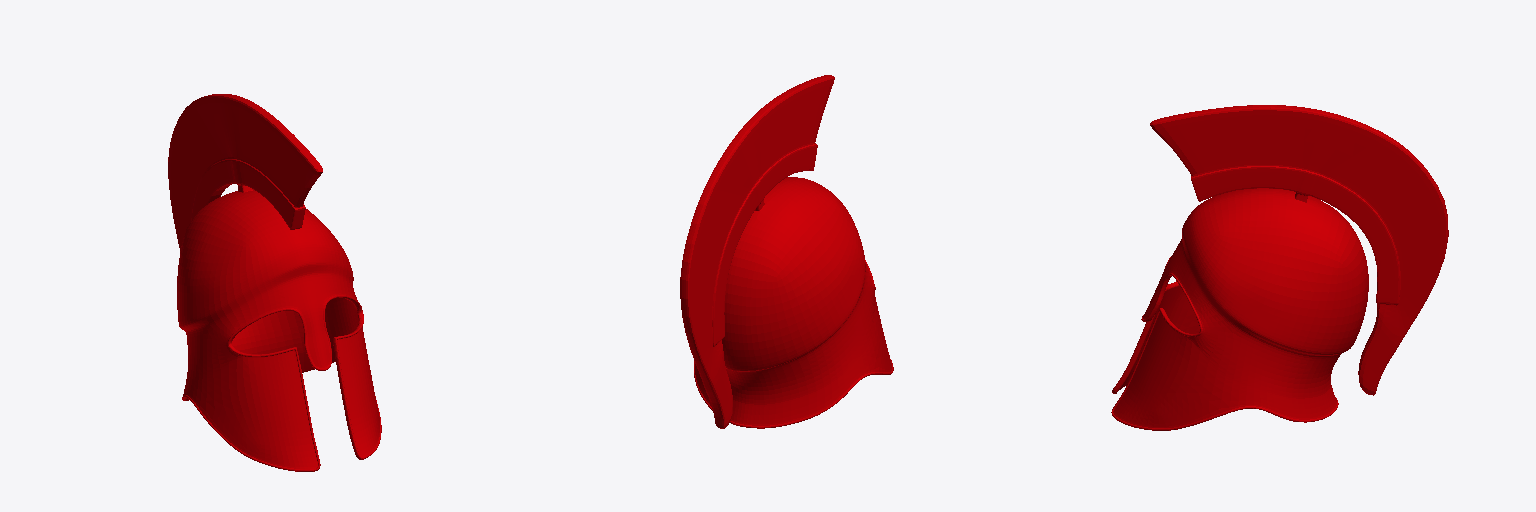
File: Grrek_Helmet_01.obj
3 views of the same model, side by side, from view 1: azimuth 30°, elevation 25°; view 2: azimuth 150°, elevation 25°; view 3: azimuth 270°, elevation 25° (orthographic).
Visible parts, largest first — view 1: Cube_Cube.001; view 2: Cube_Cube.001; view 3: Cube_Cube.001.
Part boxes in pixels (left/top/right/bottom): Cube_Cube.001: left=168, top=94, right=381, bottom=471; Cube_Cube.001: left=680, top=75, right=893, bottom=428; Cube_Cube.001: left=1111, top=105, right=1448, bottom=430.
Size of the model in its own units: 1.13 by 1.95 by 1.99.